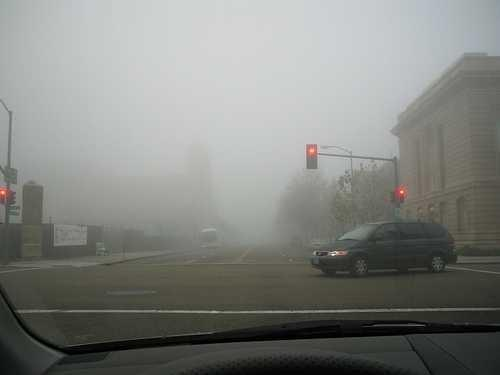red: (306, 142, 318, 171), (0, 187, 7, 208), (399, 186, 406, 206)
